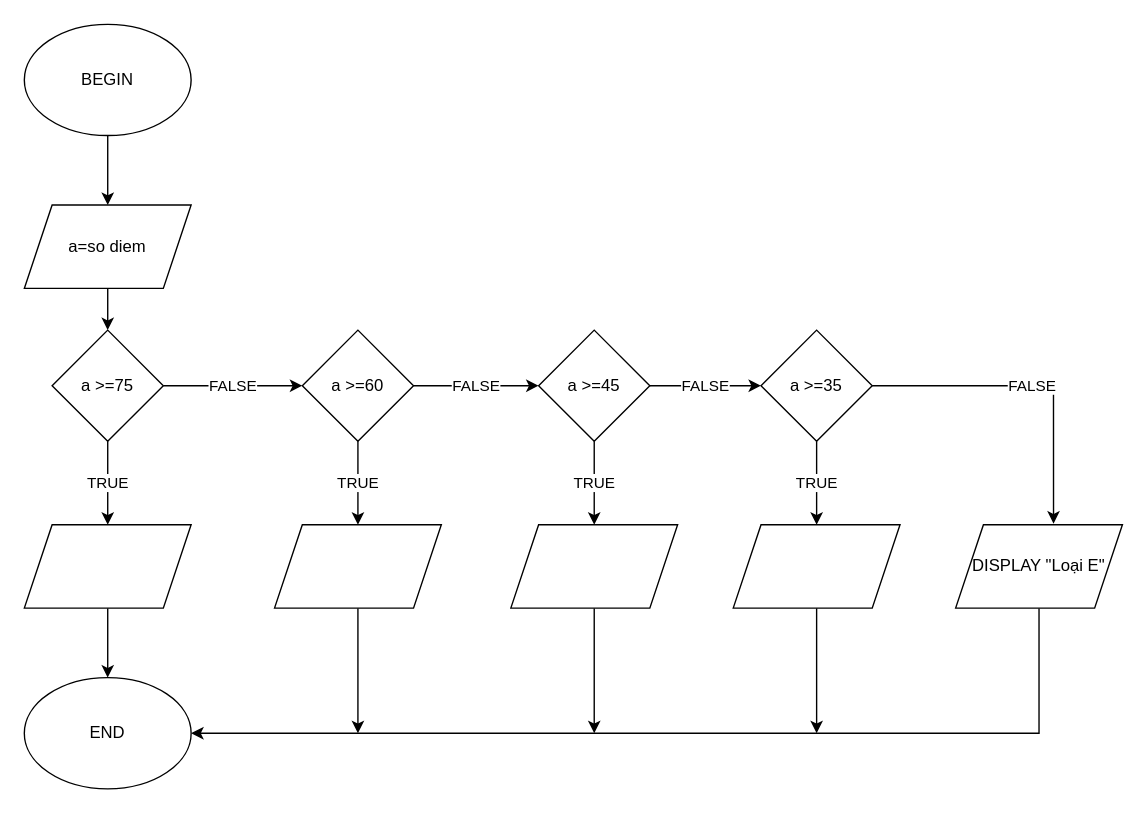
Some shapes in this 1147 by 813 pixel diagram are drawn without their labels. The shapes that lost their labels are listed below. From the top down, each one's centre as x and y in pixels, then its label:
(x=107, y=565): DISPLAY "Loại A"
(x=357, y=565): DISPLAY "Loại B"
(x=593, y=565): DISPLAY "Loại C"
(x=816, y=565): DISPLAY "Loại D"
